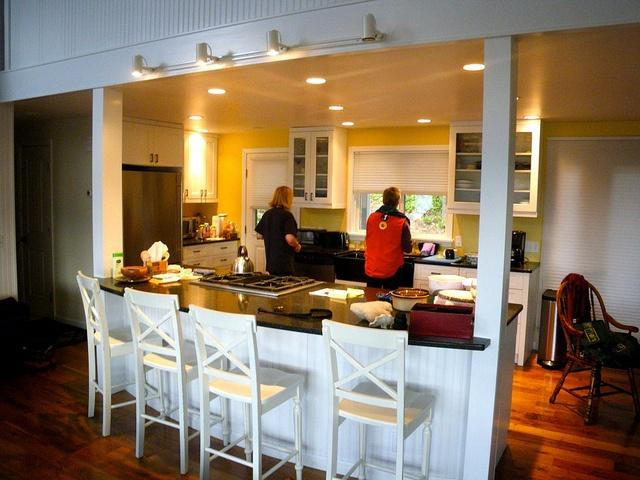Kursi: (187, 302, 306, 479), (320, 318, 435, 479), (123, 287, 201, 474), (548, 272, 639, 426), (76, 268, 137, 436)
Lemari: (444, 116, 542, 219), (287, 125, 347, 210)
